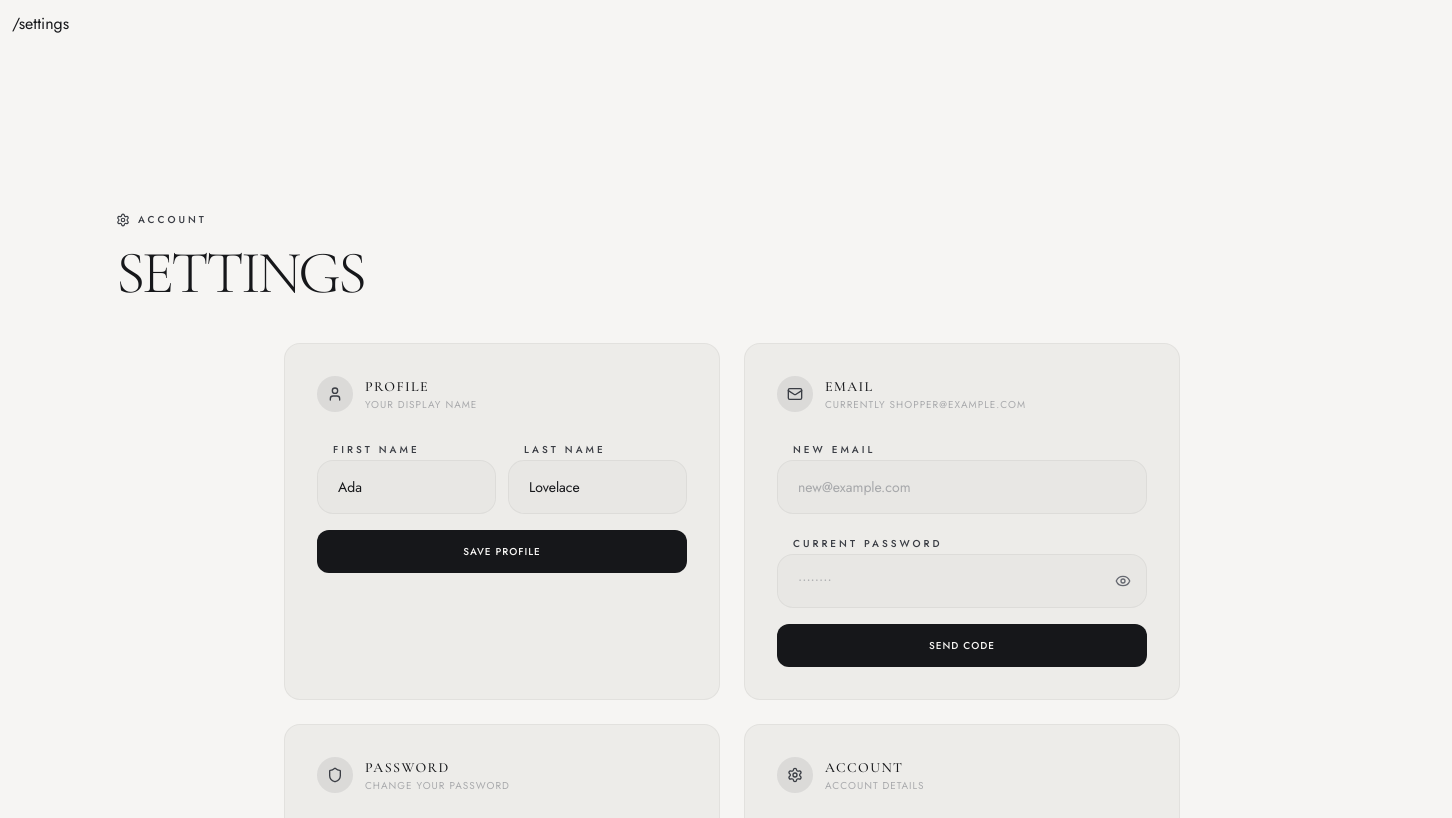
Test: SettingsPage › a failed email request shows a message and stays on the form
The image size is (1452, 818).
Type "taken@example.com" into the field with placeholder "new@example.com".
click(962, 487); type("taken@example.com")  # box [777,460,1147,514]
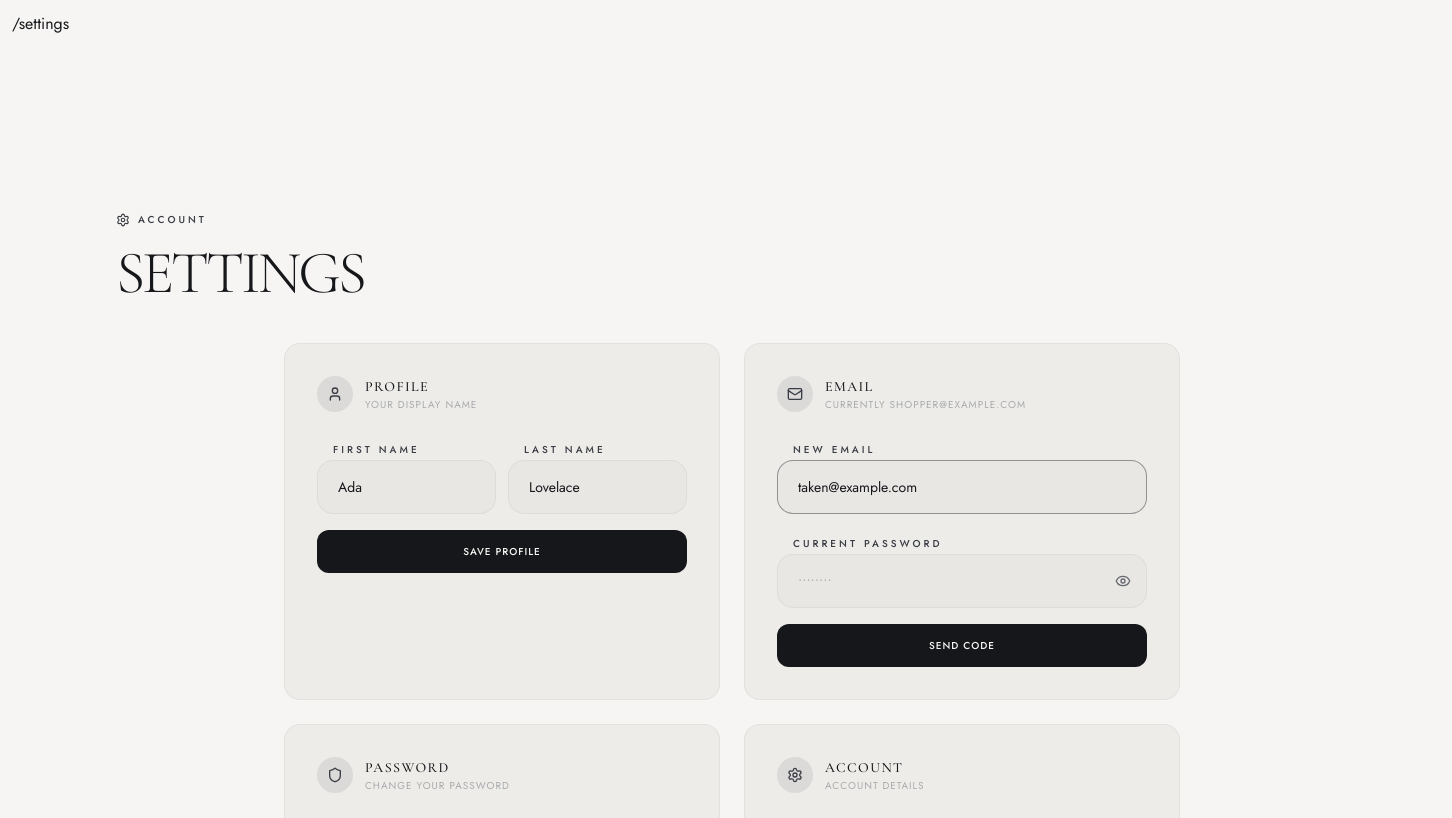
Type "Sup3r-secret-pw" into the password field with placeholder "••••••••".
click(962, 581); type("Sup3r-secret-pw")  # box [777,554,1147,608]
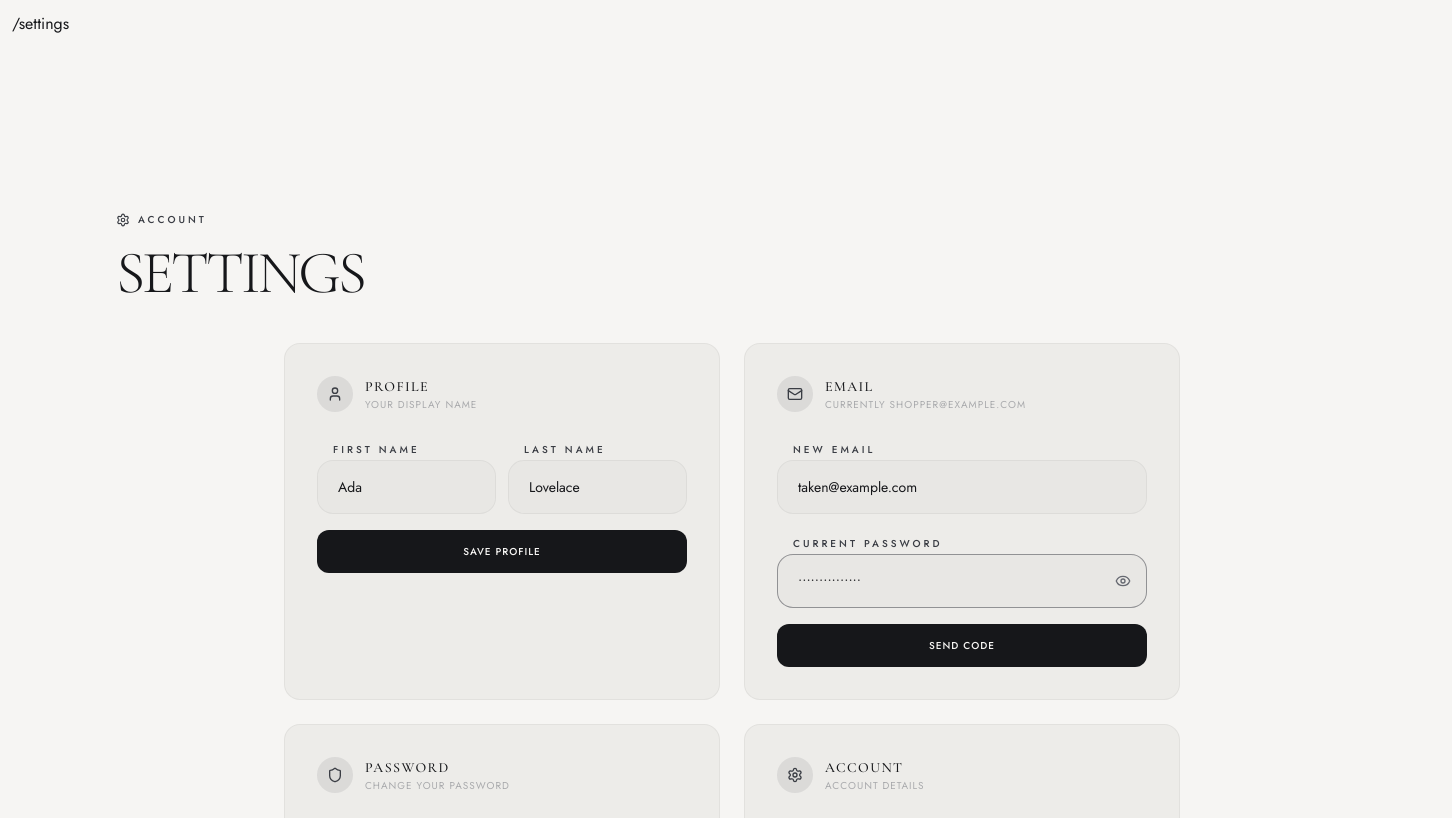
Click the button "Send Code".
click(962, 646)  # box [777,624,1147,667]
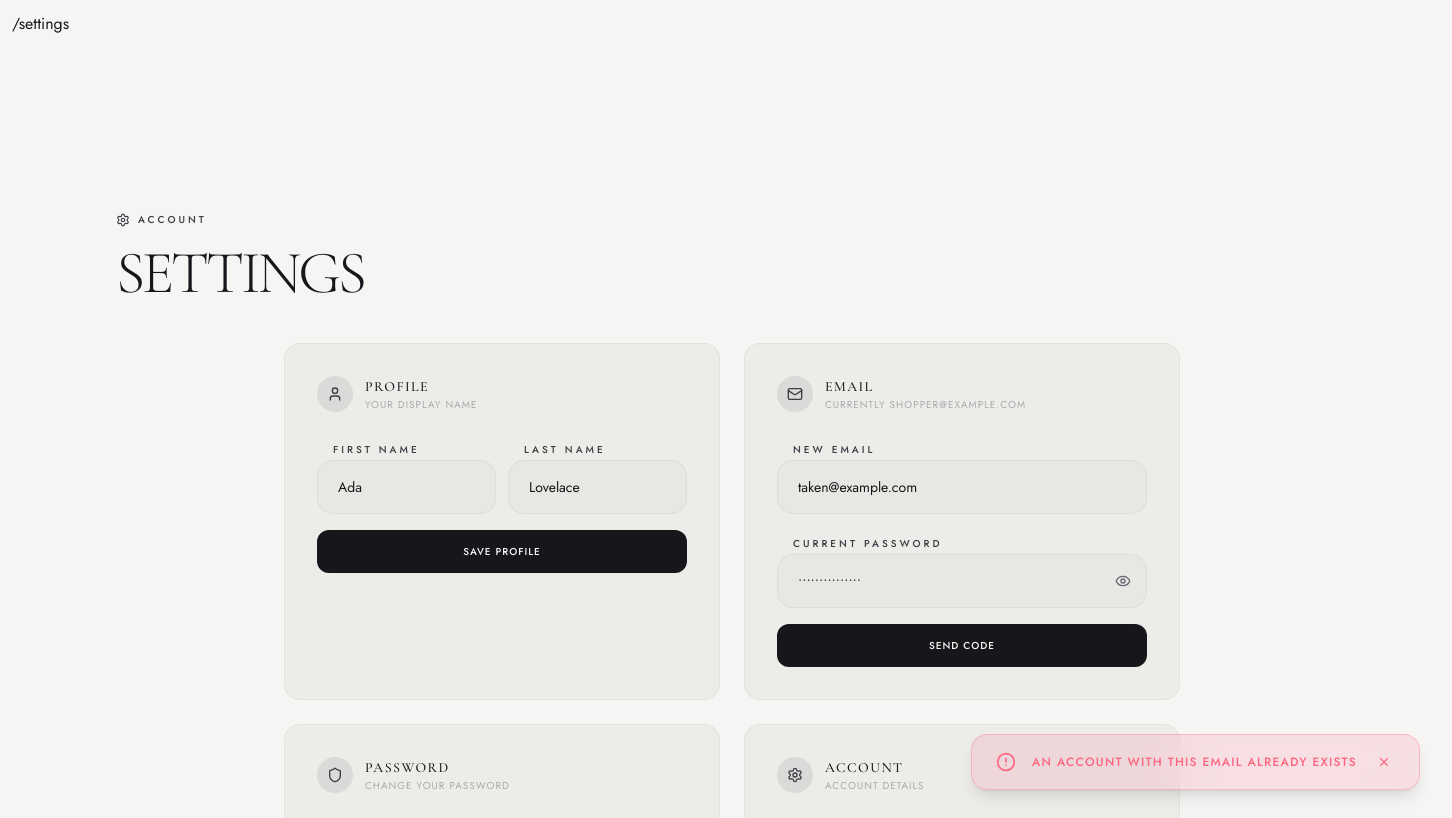
Expected: the text "An account with this email already exists" is shown, [1032,754,1357,770]
